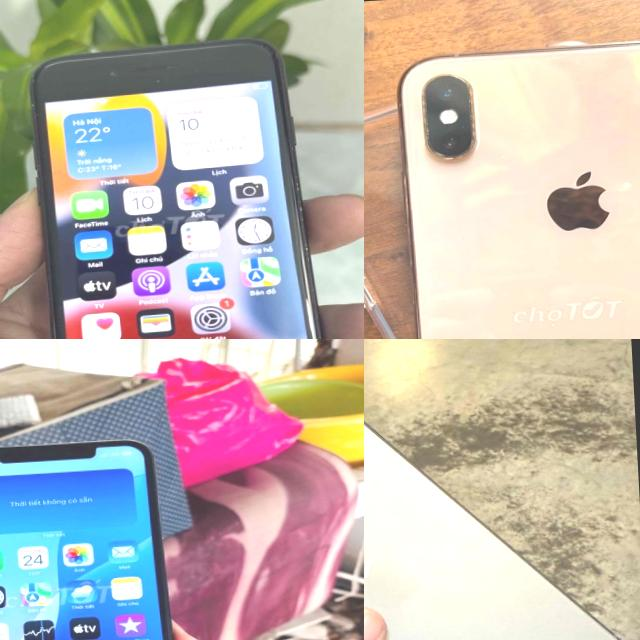scratch: (124, 52, 208, 90), (414, 86, 440, 152), (466, 84, 484, 152), (16, 66, 42, 106)
